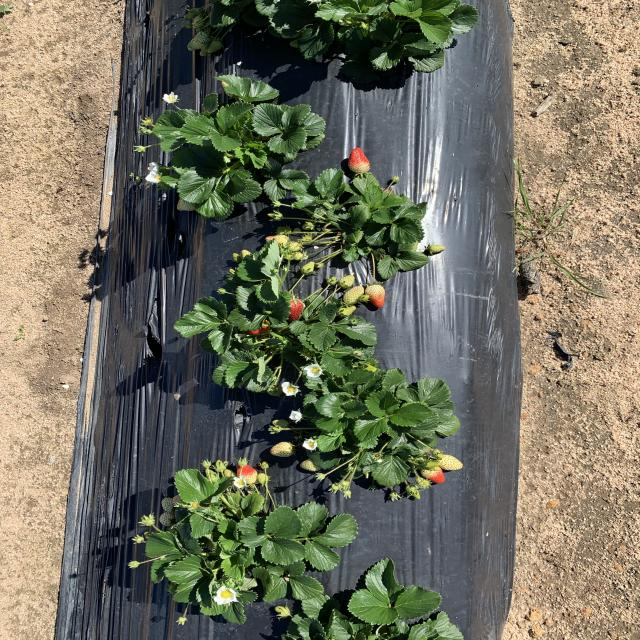unripe: (238, 316, 273, 336), (284, 298, 306, 320)
